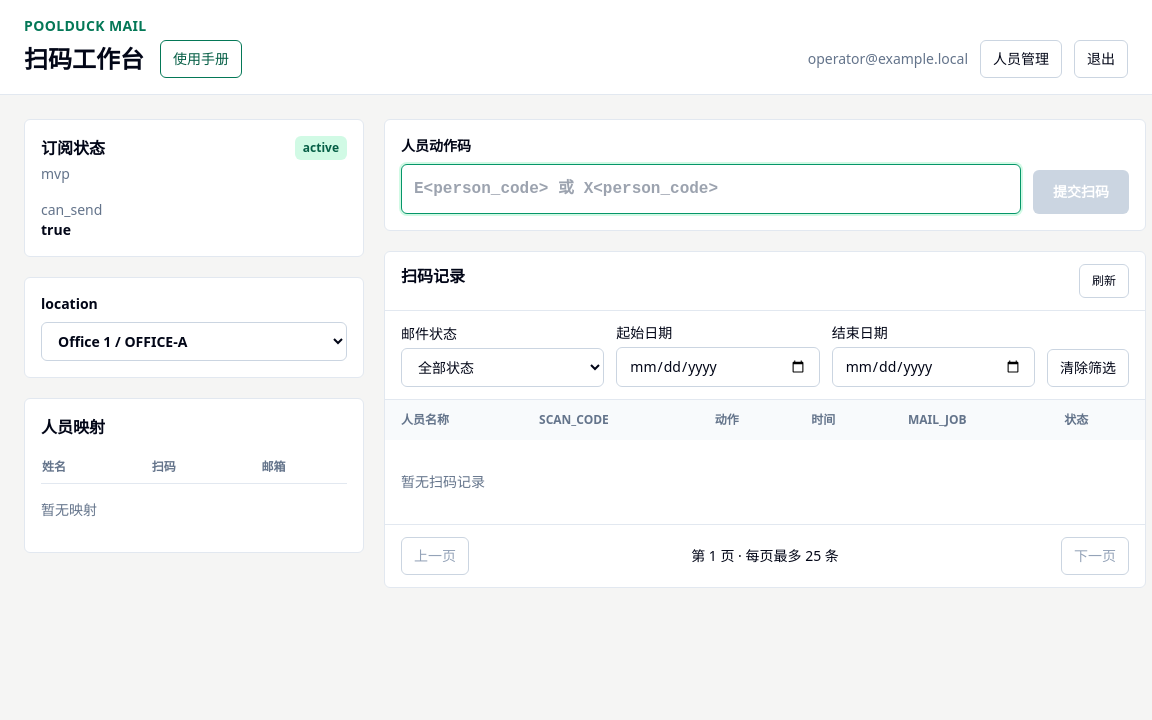
history workspace › shows the server warning on a filtered row and clears its evidence when access is revoked
This screenshot has width=1152, height=720.
Expected: the text "暂无扫码记录" is shown, [401,472,485,491]
Select "已发送（sent）" in the dropdown with test id "history-status-filter" at (503, 368), box [401,348,604,387]
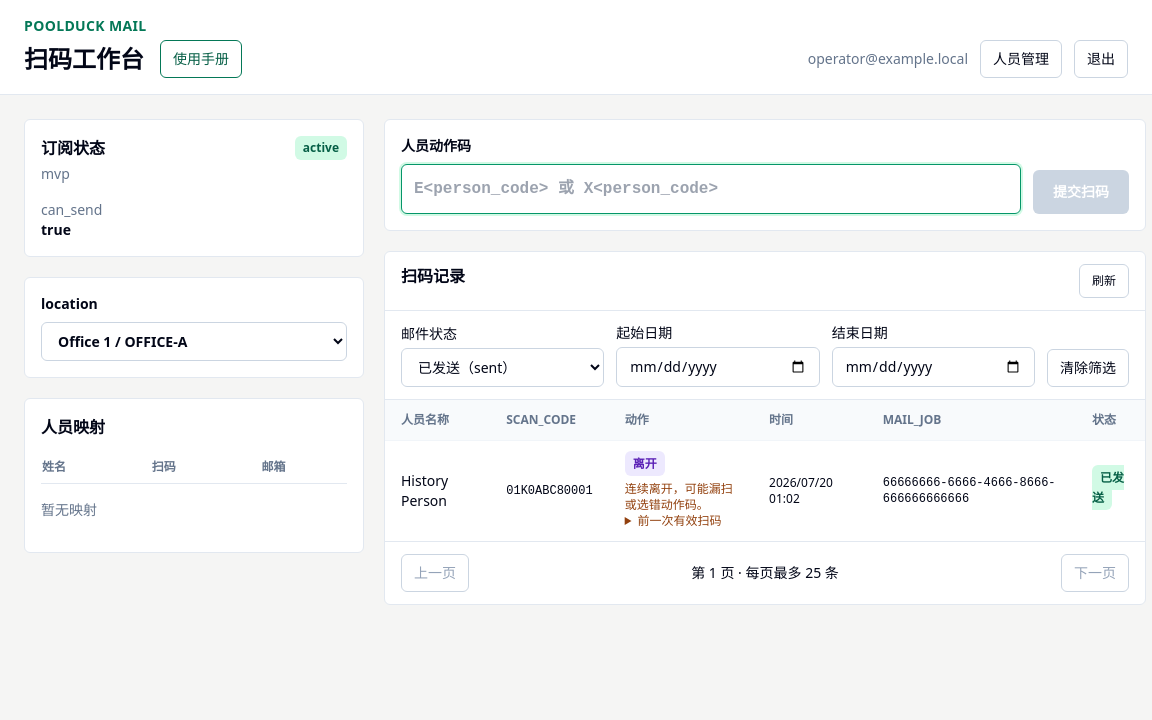
Expected: the text "连续离开，可能漏扫或选错动作码。" is shown, [625,481,737,513]
Click the heading "前一次有效扫码".
click(679, 520)  # box [637,512,721,529]
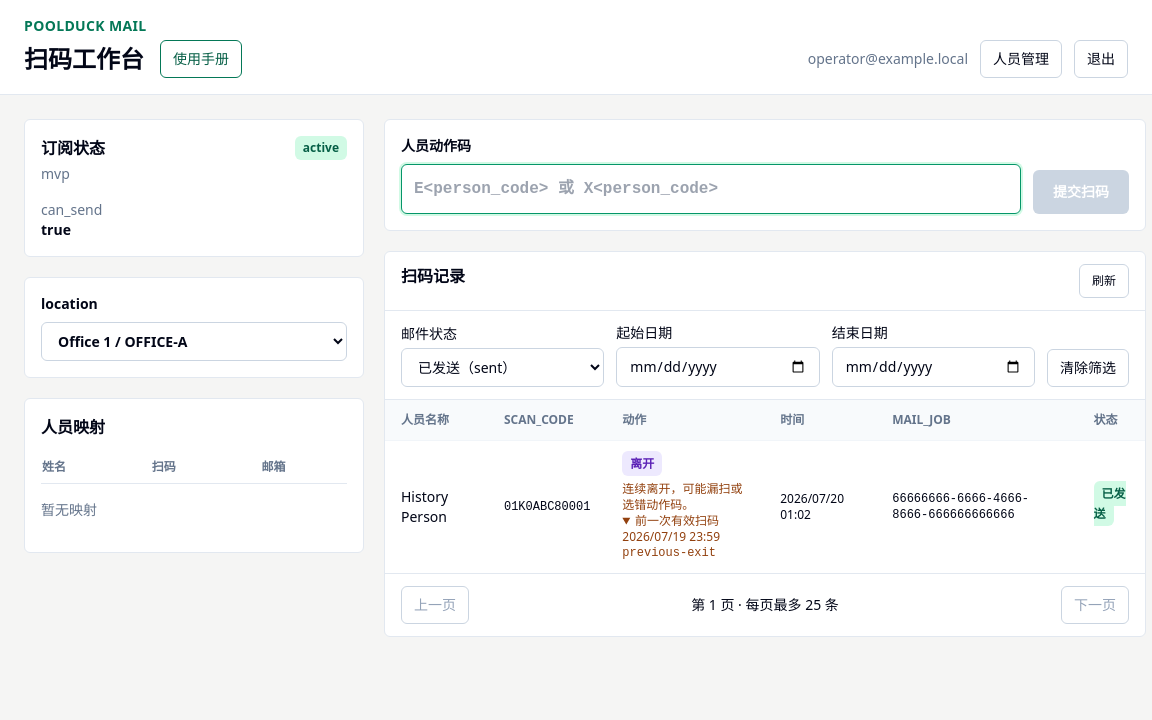
Expected: the text "previous-exit" is shown, [622,546,716,560]
Click the button with test id "history-refresh".
click(1104, 281)  # box [1079,264,1129,298]
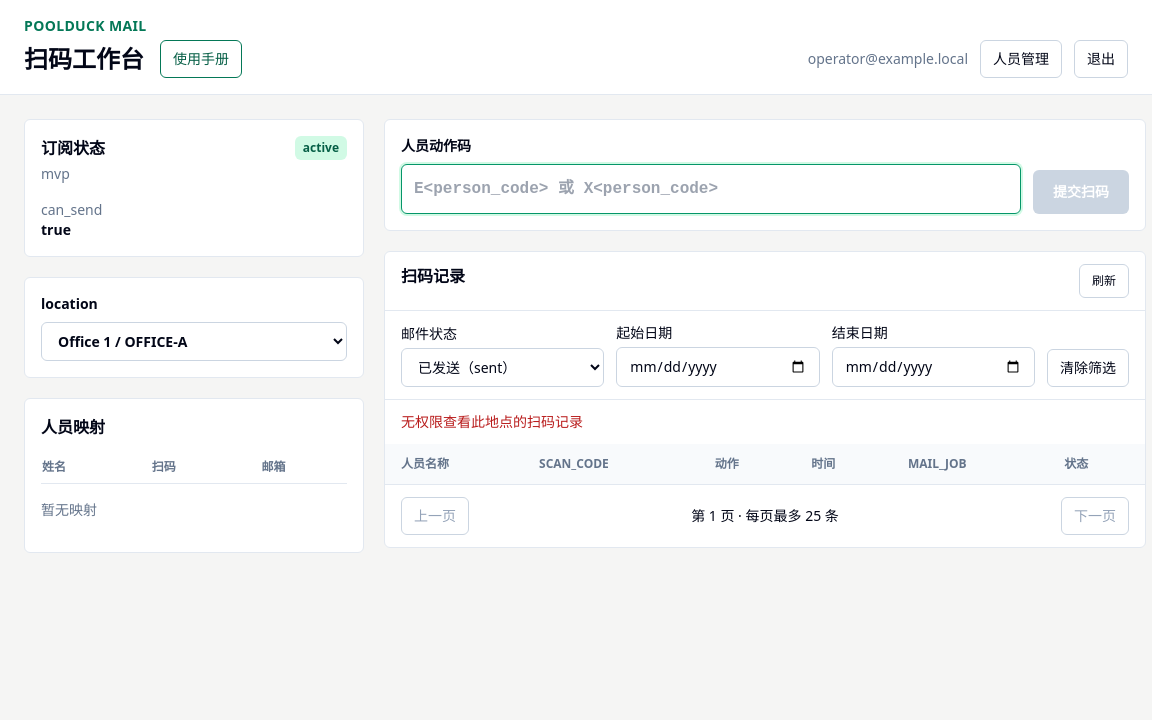
Expected: the text "无权限查看此地点的扫码记录" is shown, [401,412,583,431]
Expected: the text "previous-exit" is gone
